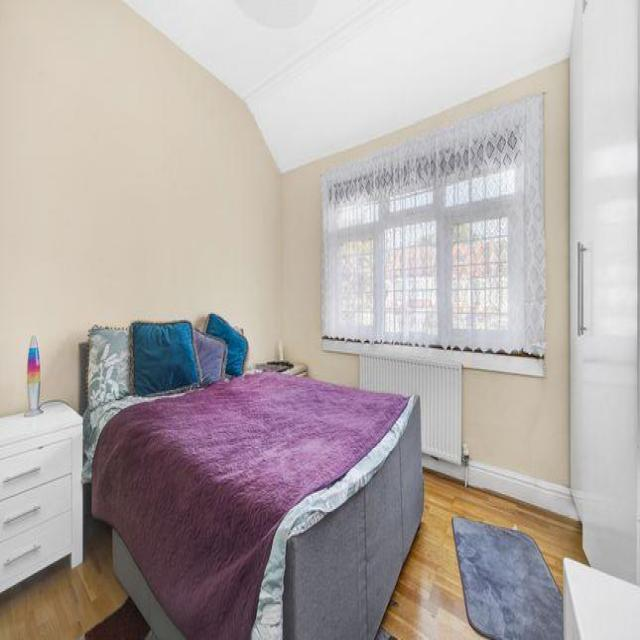Wall: (0, 1, 574, 517), (126, 1, 573, 172), (377, 471, 585, 639), (0, 486, 149, 639)
